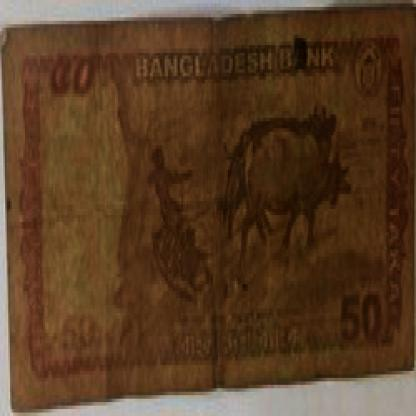Fifty taka: (38, 49, 115, 142), (334, 280, 392, 353)
